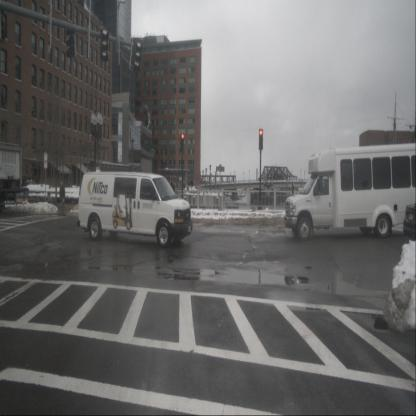human-pedestrian-adult: (169, 178, 176, 211), (59, 181, 65, 214)
vehicle-bus-rigid: (283, 143, 416, 241)
vehicle-car: (78, 172, 192, 248)
vehicle-truck: (0, 142, 23, 208)
